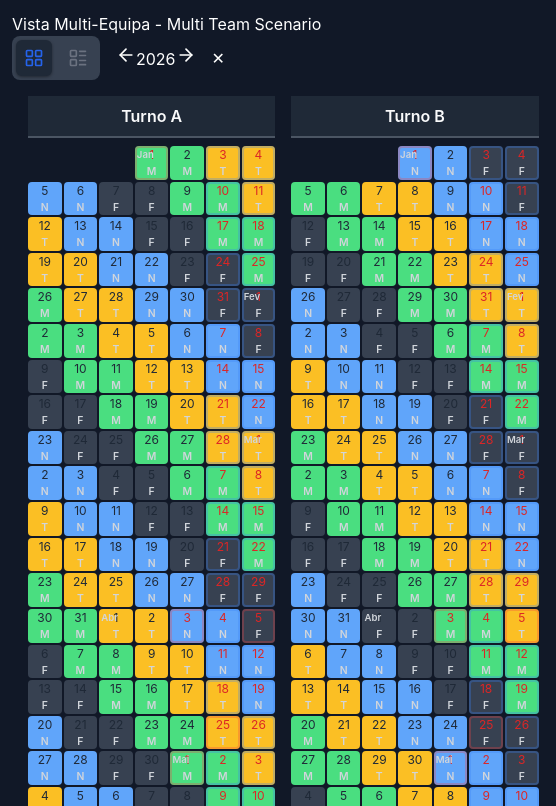
MultiTeamCalendarView › navigates between years
Click the 4th button. click: [186, 55]
box: [176,45,196,65]
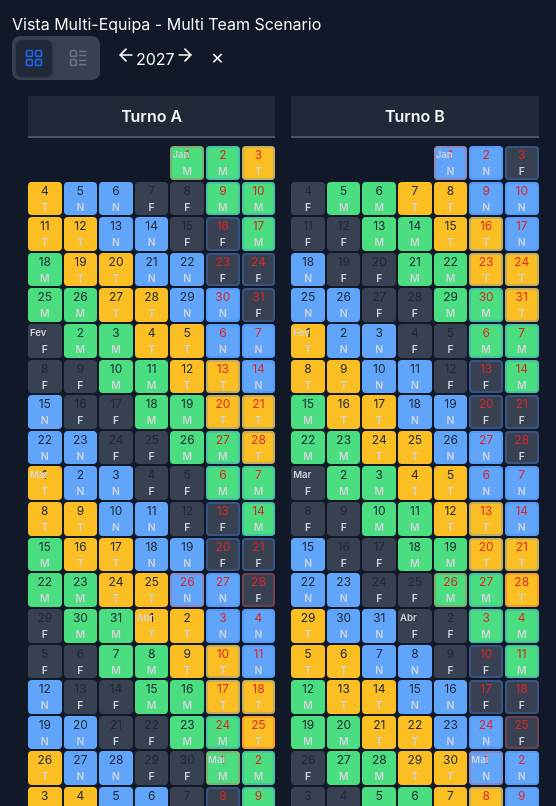
Expected: the text "2027" is shown, [136,49,175,69]
